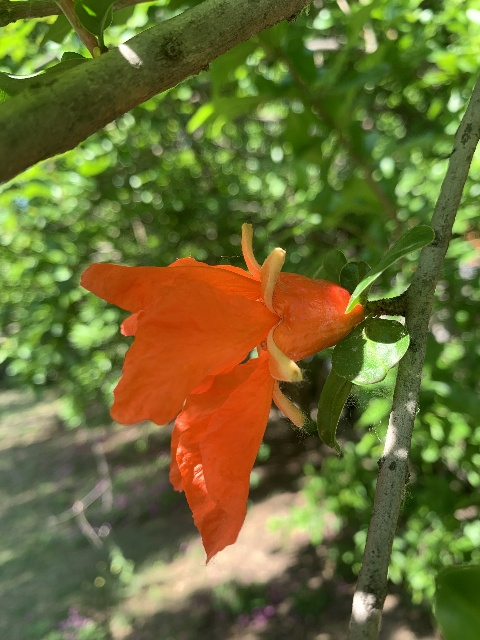flower: (76, 215, 359, 563)
